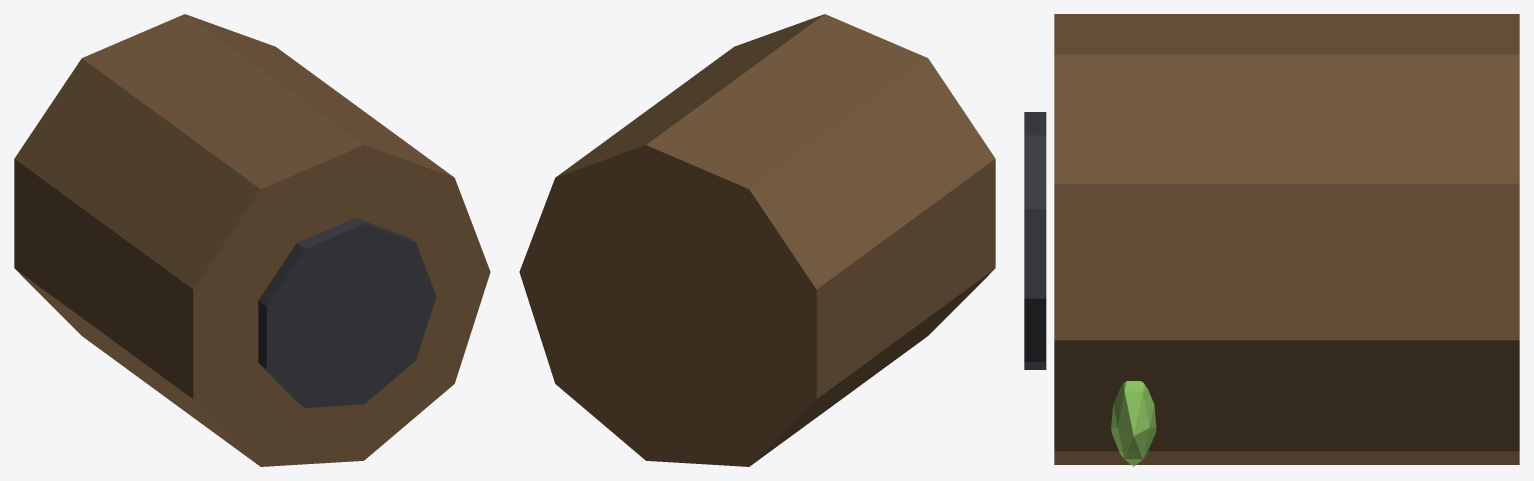
Rendered from swamp_rotted_stump.glb.
The picture shows the model from 3 angles, left to right: view 1: azimuth 30°, elevation 25°; view 2: azimuth 150°, elevation 25°; view 3: azimuth 270°, elevation 25°; orthographic projection. The views are drawn at different scales.
Visible parts, largest first — view 1: stump, hollow; view 2: stump; view 3: stump, hollow, slime_patch.
Part boxes in pixels (box(x1,y1,x2,y2)): stump: box(14, 14, 490, 466); hollow: box(258, 218, 436, 407); stump: box(519, 14, 995, 466); stump: box(1054, 14, 1519, 464); hollow: box(1024, 112, 1046, 369); slime_patch: box(1111, 381, 1156, 466).
Size of the model in its own units: 0.8447 by 0.8272 by 0.905.
